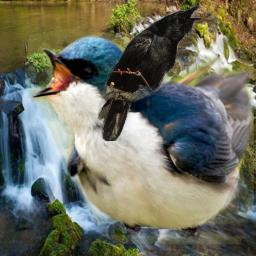Crow: (96, 3, 204, 141)
Swallow: (25, 29, 254, 244)
